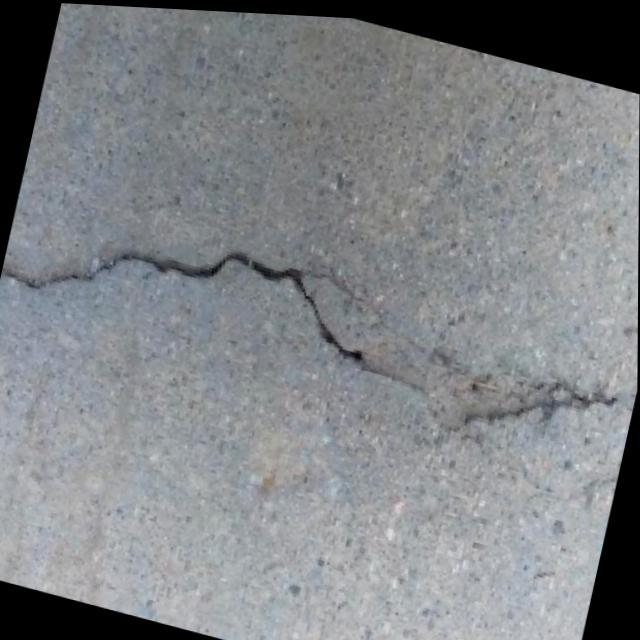Crack: (0, 173, 637, 490)
